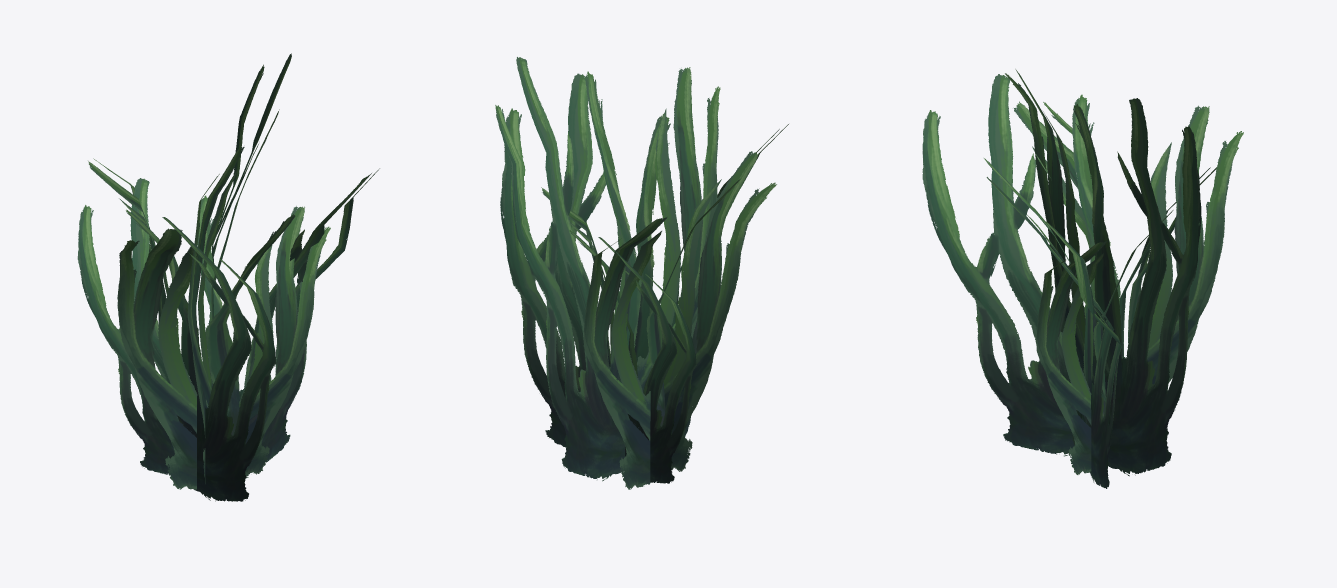
File: mesh_kelp1.fbx
3 views of the same model, side by side, from view 1: azimuth 30°, elevation 25°; view 2: azimuth 150°, elevation 25°; view 3: azimuth 270°, elevation 25° (orthographic). The views are drawn at different scales.
Parts seen in each view (by area): view 1: kelp1.003; view 2: kelp1.003; view 3: kelp1.003.
Boxes of the visible parts, bbox=[...] form: kelp1.003: bbox=[77, 53, 379, 501]; kelp1.003: bbox=[495, 57, 788, 489]; kelp1.003: bbox=[922, 69, 1243, 488].
Size of the model in its own units: 103 by 118 by 100.
